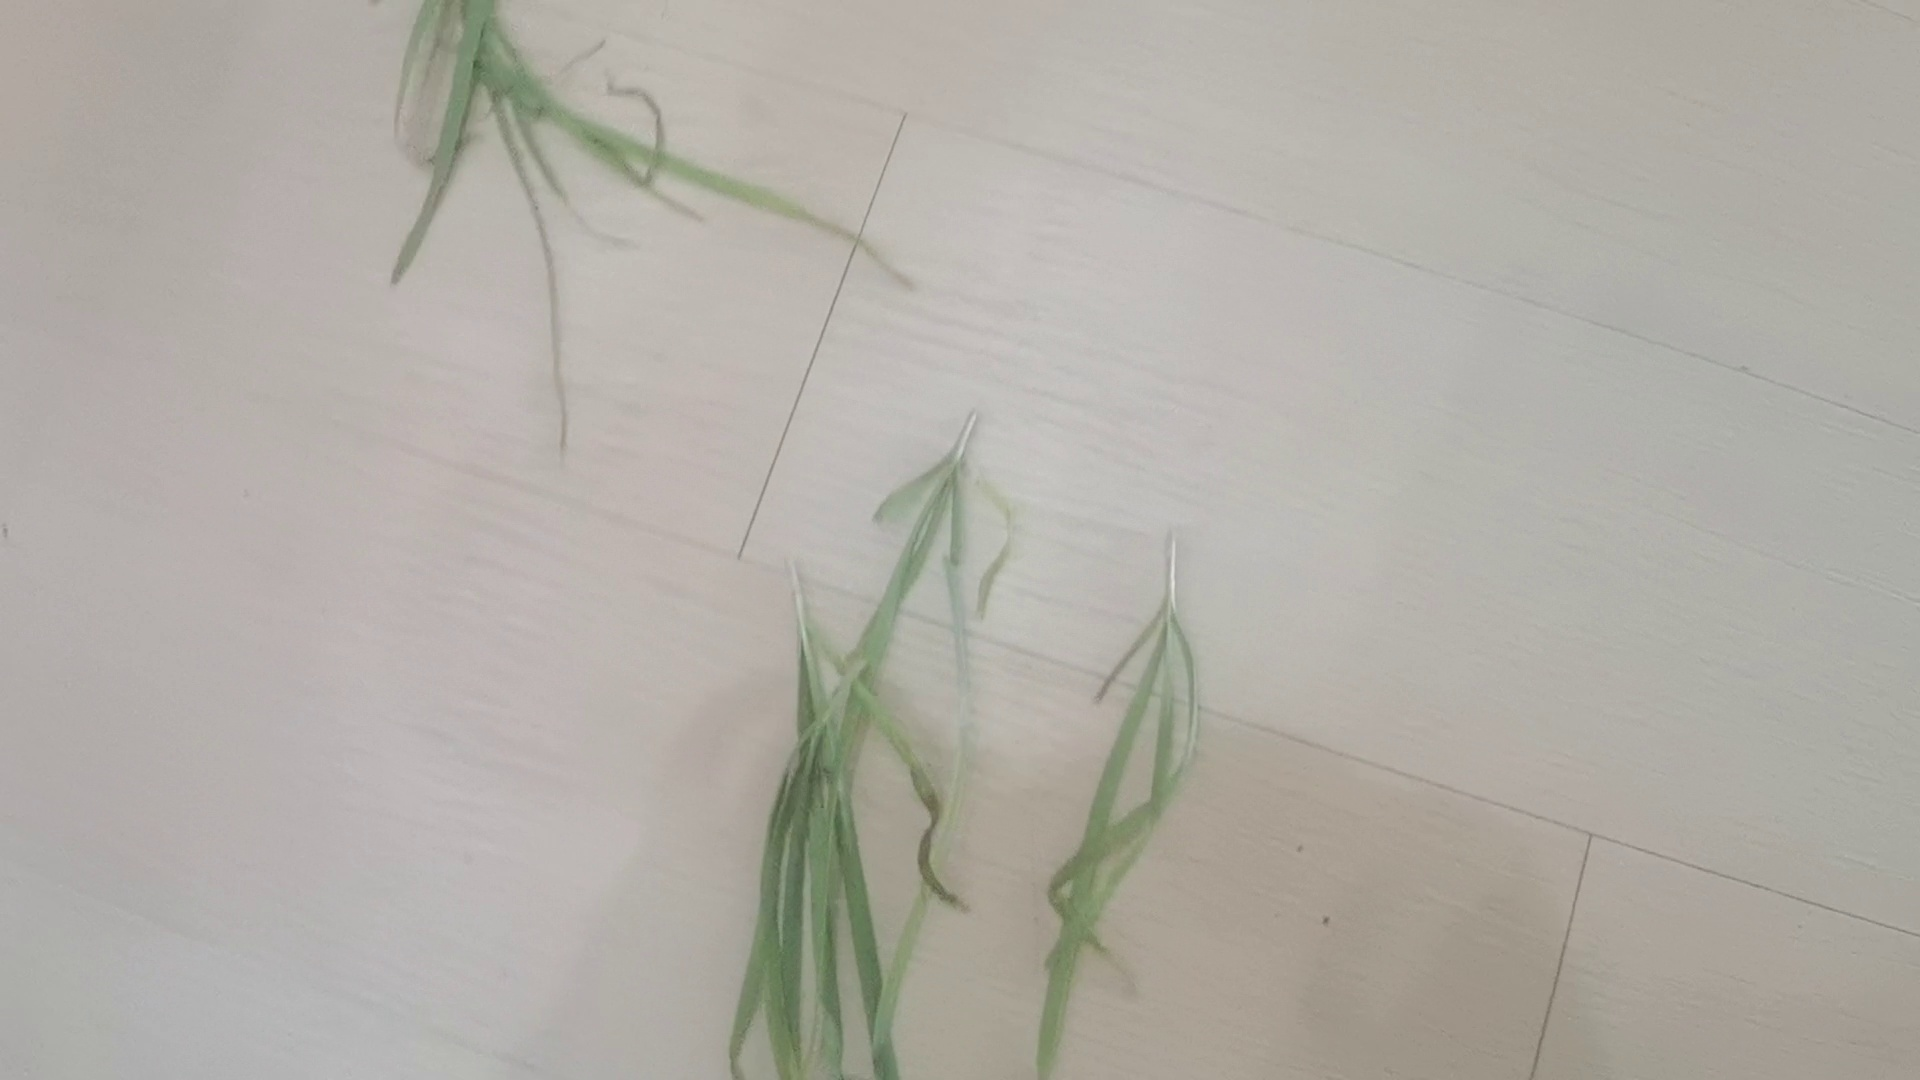chives: (363, 3, 927, 316), (1010, 509, 1226, 1080)
